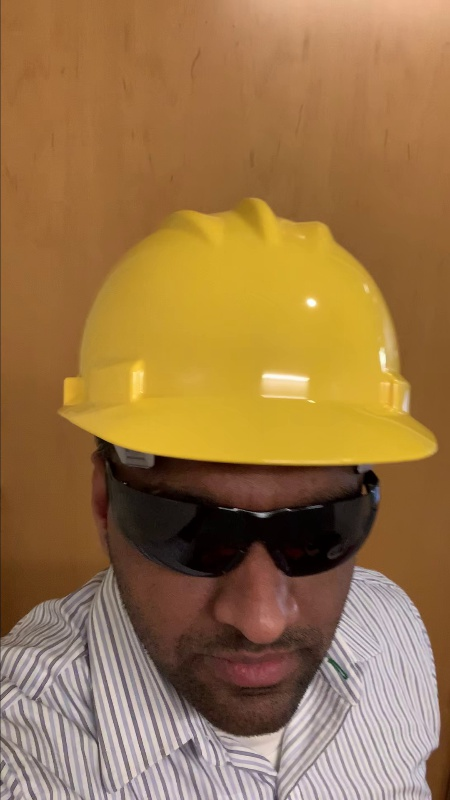glasses: (95, 454, 403, 578)
helmet: (58, 193, 439, 477)
